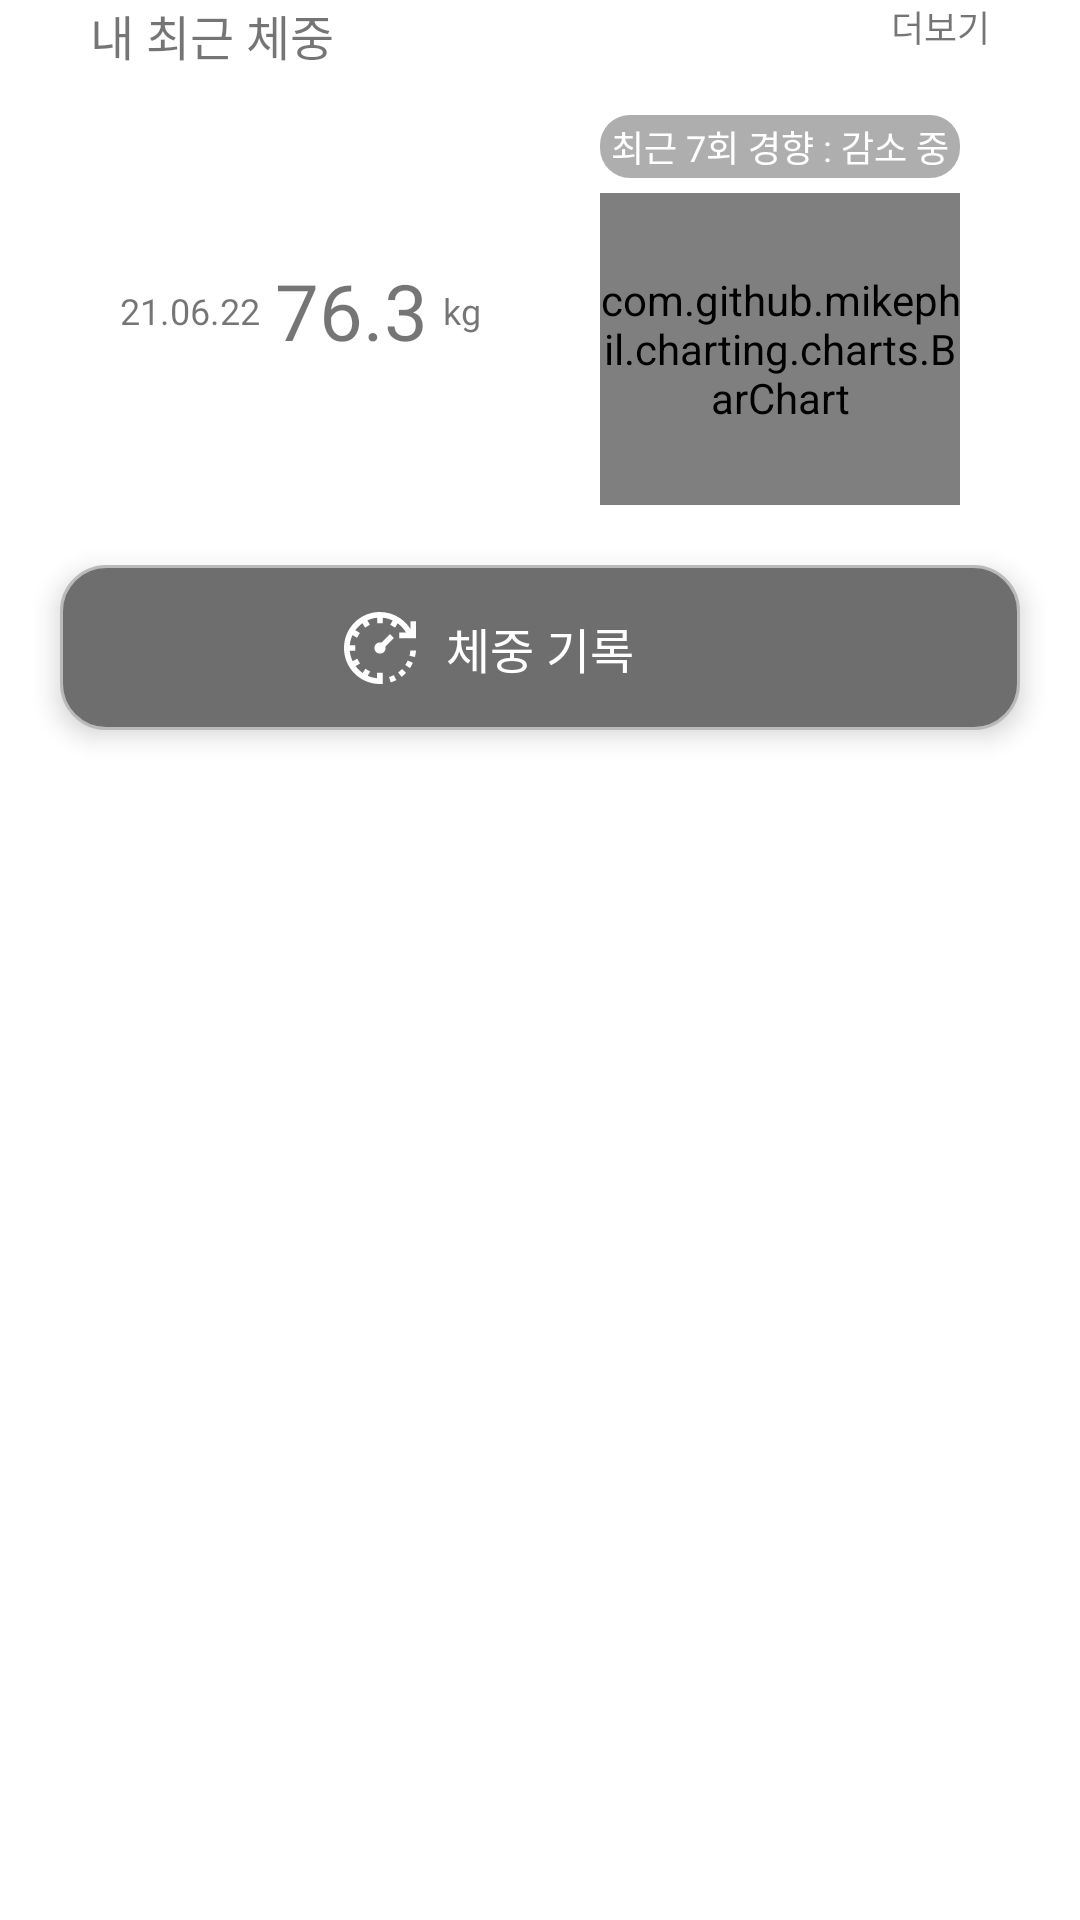

Where icons sit on this 1080×1920 app screen, as (x1, y1, x2, y2):
speedometer: (344, 612, 416, 684)
